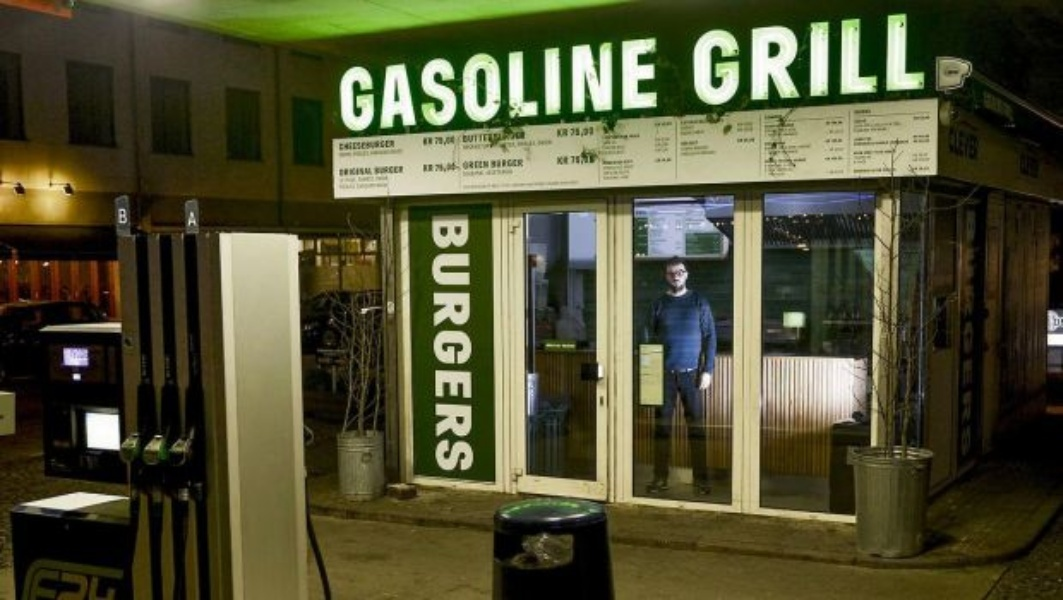text: (433, 211, 448, 474), (449, 211, 464, 474), (961, 208, 976, 462), (465, 211, 474, 474), (337, 35, 352, 133), (353, 35, 368, 133), (369, 35, 384, 133), (385, 35, 400, 133), (401, 35, 416, 133), (417, 35, 432, 133), (433, 35, 448, 133), (449, 35, 464, 133), (465, 35, 480, 133), (481, 35, 496, 133), (497, 35, 512, 133), (513, 35, 528, 133), (529, 35, 544, 133), (545, 35, 560, 133), (561, 35, 576, 133), (577, 35, 592, 133), (593, 35, 608, 133), (609, 35, 624, 133), (625, 35, 640, 133), (641, 35, 656, 133), (705, 13, 720, 107), (721, 13, 736, 107), (737, 13, 752, 107), (753, 13, 768, 107), (769, 13, 784, 107), (785, 13, 800, 107), (801, 13, 816, 107), (817, 13, 832, 107), (833, 13, 848, 107), (849, 13, 864, 107), (865, 13, 880, 107), (881, 13, 896, 107), (897, 13, 912, 107), (913, 13, 928, 107), (849, 107, 864, 177), (865, 107, 880, 177), (881, 107, 896, 177), (693, 13, 704, 107), (897, 107, 911, 177), (769, 112, 784, 175), (785, 112, 800, 175), (833, 117, 849, 175), (609, 126, 624, 182), (913, 114, 928, 170), (705, 115, 721, 165), (429, 211, 432, 474), (657, 115, 672, 165), (673, 115, 688, 165), (689, 115, 704, 165), (625, 126, 638, 182), (758, 112, 768, 175), (597, 126, 608, 182), (945, 124, 960, 163), (961, 124, 976, 163), (822, 117, 832, 175), (977, 208, 979, 462), (33, 566, 48, 599), (49, 566, 64, 599), (65, 566, 80, 599), (81, 566, 96, 599), (97, 566, 112, 599), (1025, 150, 1040, 181), (337, 165, 352, 193), (353, 165, 368, 193), (369, 165, 384, 193), (385, 165, 400, 193), (657, 35, 661, 133), (337, 138, 352, 162), (353, 138, 368, 162), (369, 138, 384, 162), (385, 138, 400, 162), (433, 157, 448, 181), (449, 157, 464, 181), (465, 157, 480, 181), (481, 157, 496, 181), (497, 157, 512, 181), (513, 157, 528, 181), (929, 114, 935, 170), (419, 157, 432, 181), (433, 133, 448, 153), (449, 133, 464, 153), (465, 133, 480, 153), (481, 133, 496, 153), (497, 133, 512, 153), (513, 133, 528, 153), (529, 133, 544, 153), (650, 115, 656, 165), (561, 150, 576, 169), (577, 150, 592, 169), (1015, 150, 1024, 181), (545, 133, 558, 153), (801, 112, 805, 175), (401, 165, 410, 193), (115, 206, 128, 225), (977, 124, 983, 163), (561, 126, 576, 141), (577, 126, 592, 141), (421, 133, 432, 153), (1050, 309, 1056, 335), (113, 566, 117, 599), (1057, 309, 1062, 335), (554, 150, 560, 169), (193, 211, 199, 229), (401, 138, 405, 162), (929, 13, 930, 107), (187, 211, 192, 229), (333, 165, 336, 193), (1041, 150, 1043, 181), (556, 126, 560, 141), (911, 114, 912, 170), (593, 150, 595, 169), (335, 138, 336, 162), (529, 157, 530, 181)
